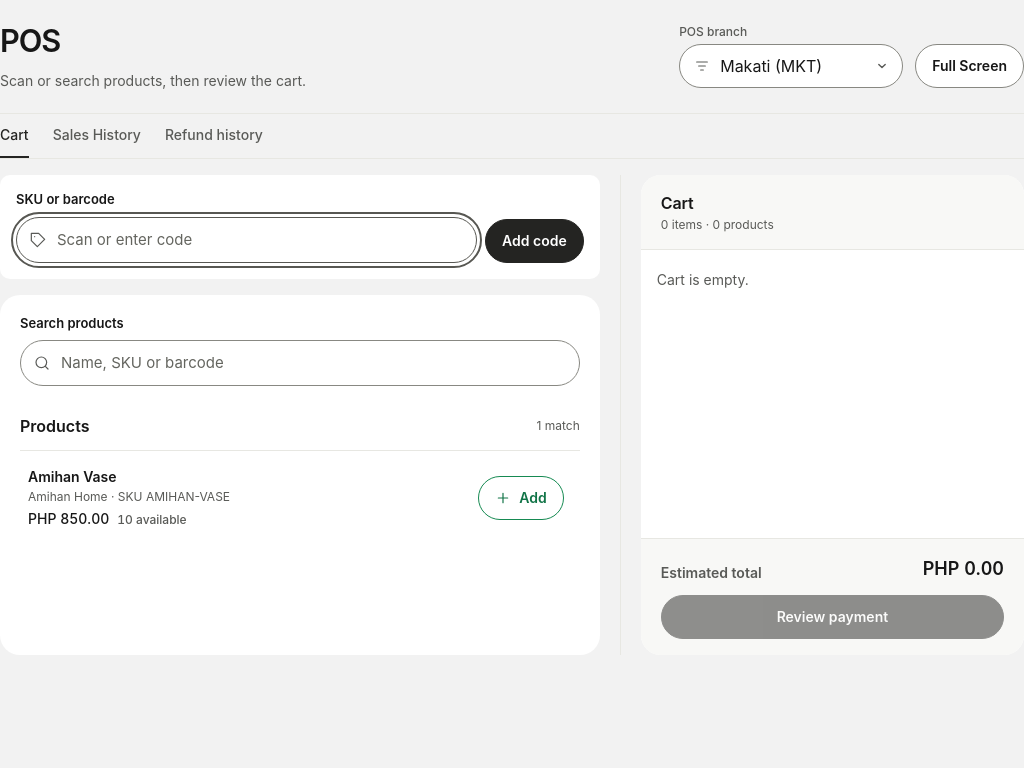
Test case: Branch POS cart workflows › requires explicit re-review after a price conflict and uses a new ID only for the changed command
In the field labelled "SKU or barcode": (247, 240) [16, 217, 477, 263], type "001Ab"
Press Enter in the field labelled "SKU or barcode", box [16, 217, 477, 263]
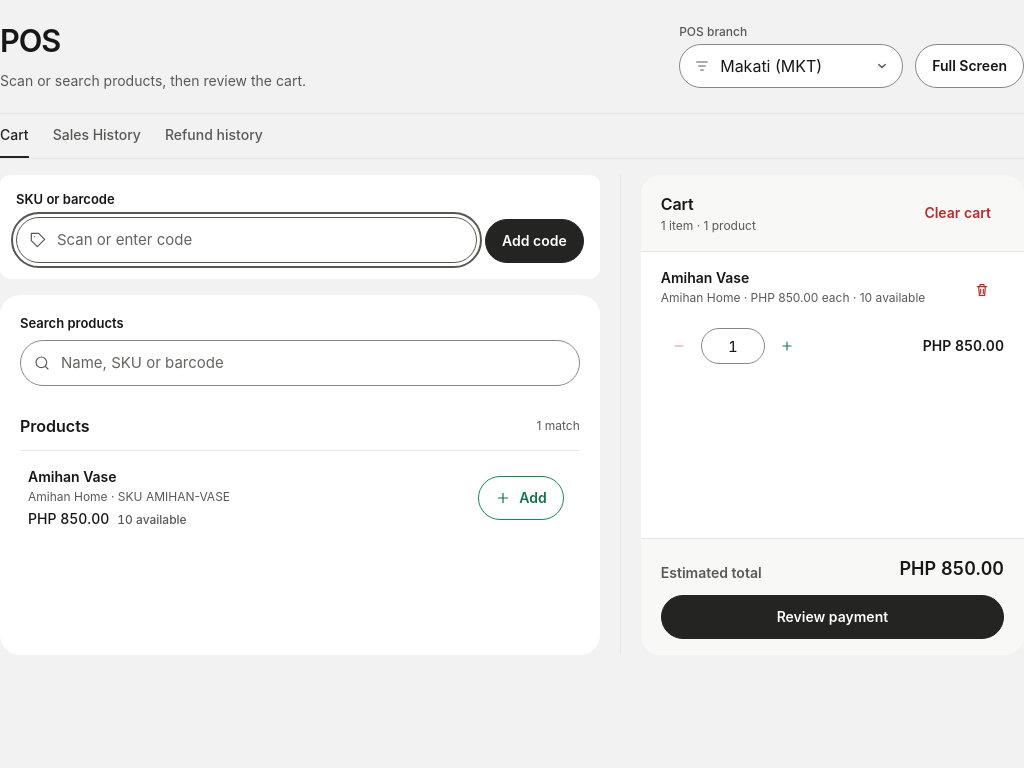
Click the button "Review payment": (832, 617) [661, 595, 1004, 639]
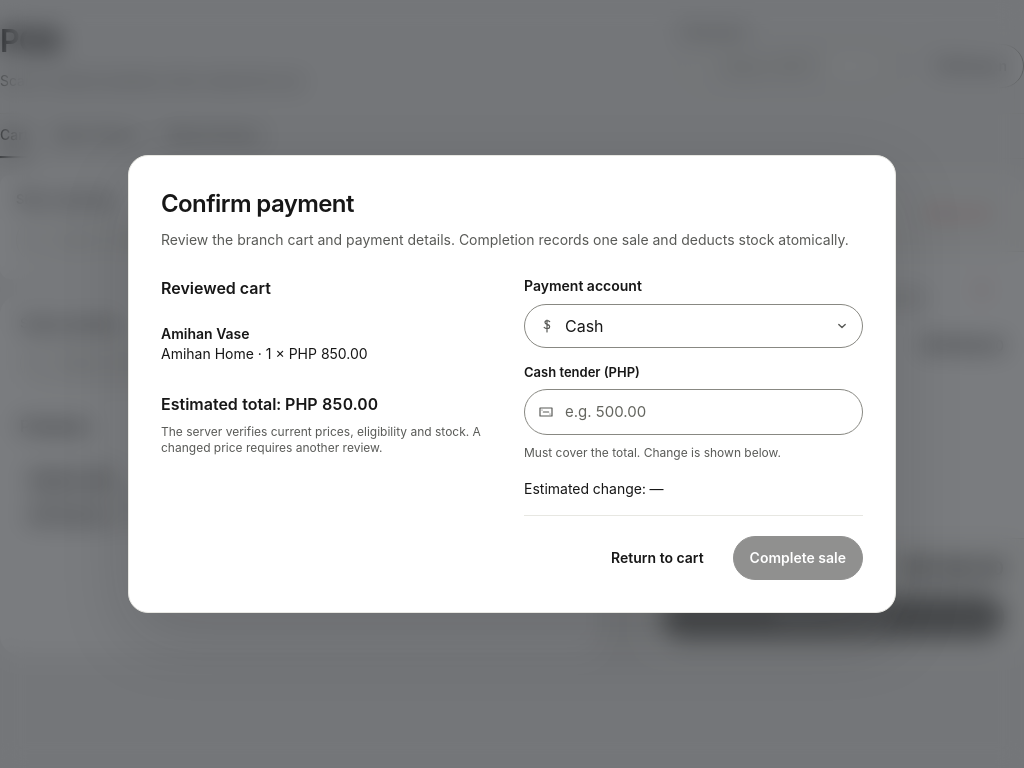
In the field labelled "Cash tender (PHP)": (694, 412) [524, 389, 863, 435], type "1000"
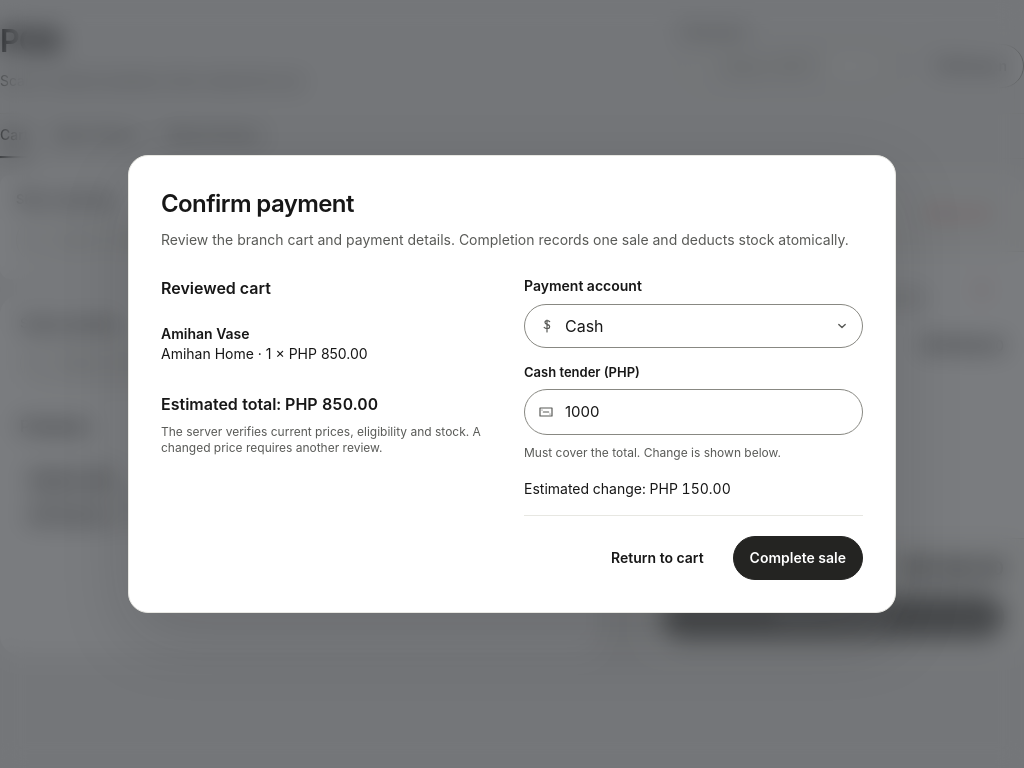
Click the button "Complete sale": (798, 558) [733, 536, 863, 580]
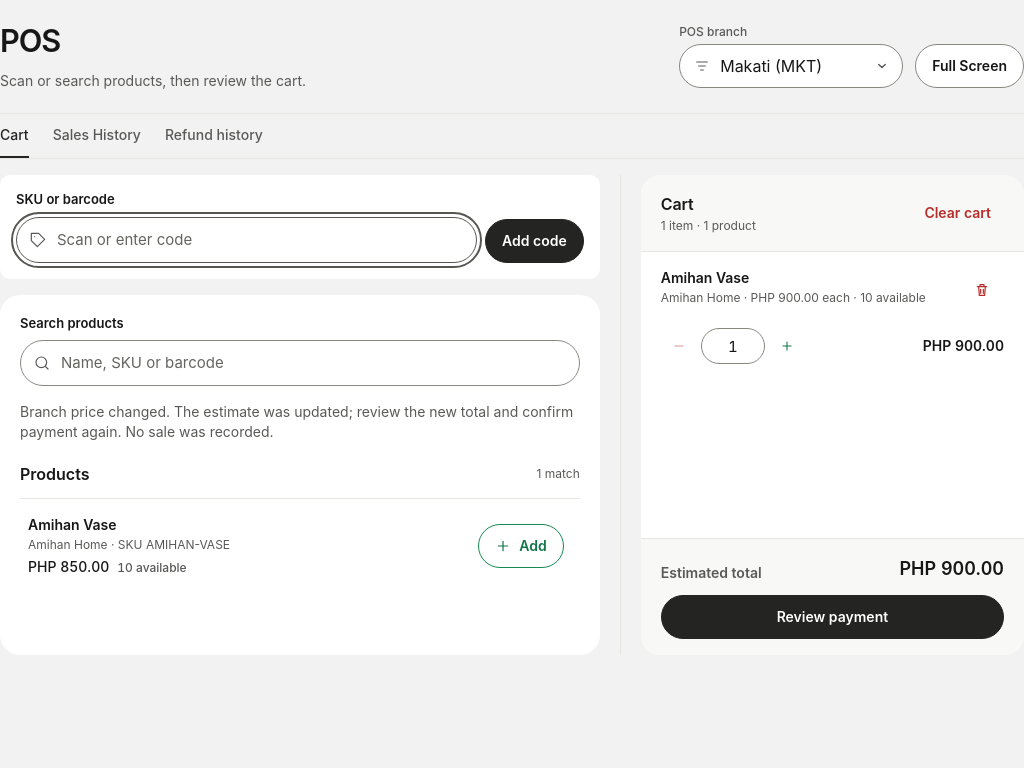
Now the dialog is gone
Now the text named "Estimated total" shows "900.00", box [941, 558, 1004, 579]
Click the button "Review payment": (832, 617) [661, 595, 1004, 639]
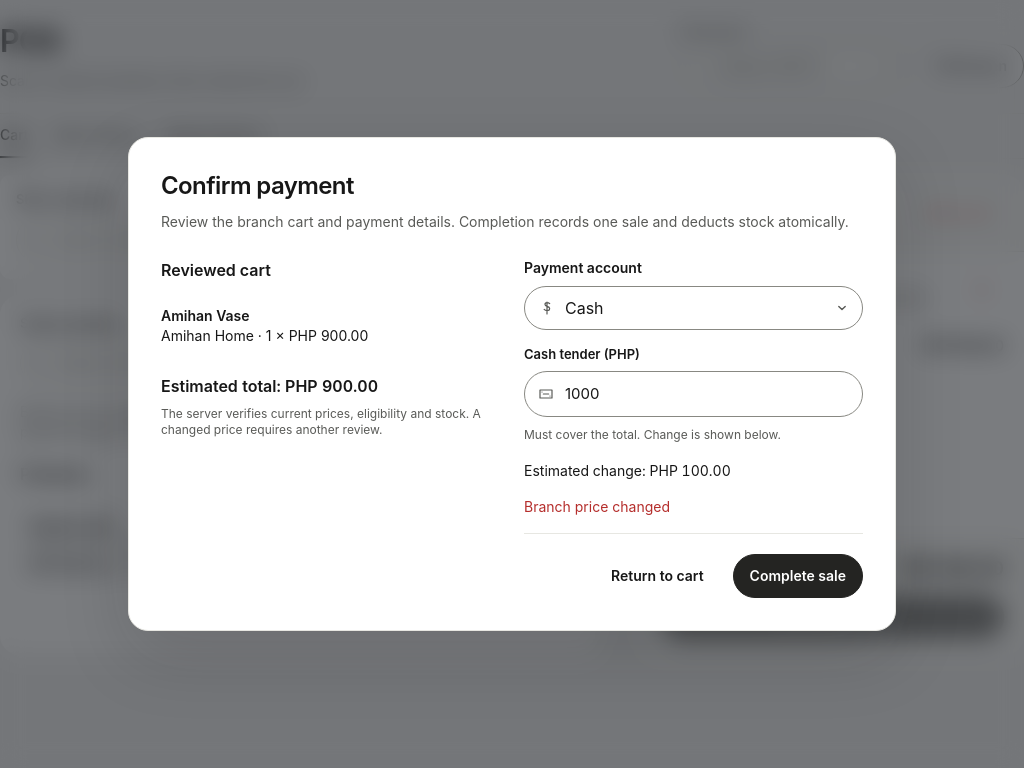
Click the button "Complete sale": (798, 576) [733, 554, 863, 598]
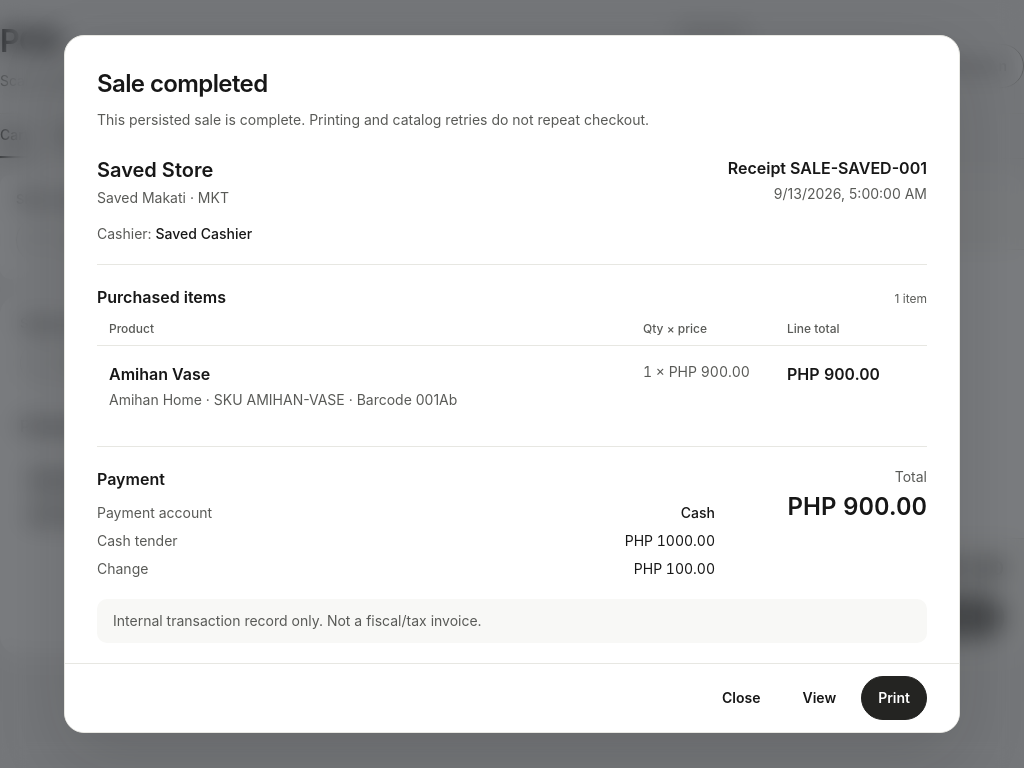
Now the heading "Sale completed" is shown, box [97, 68, 268, 100]
